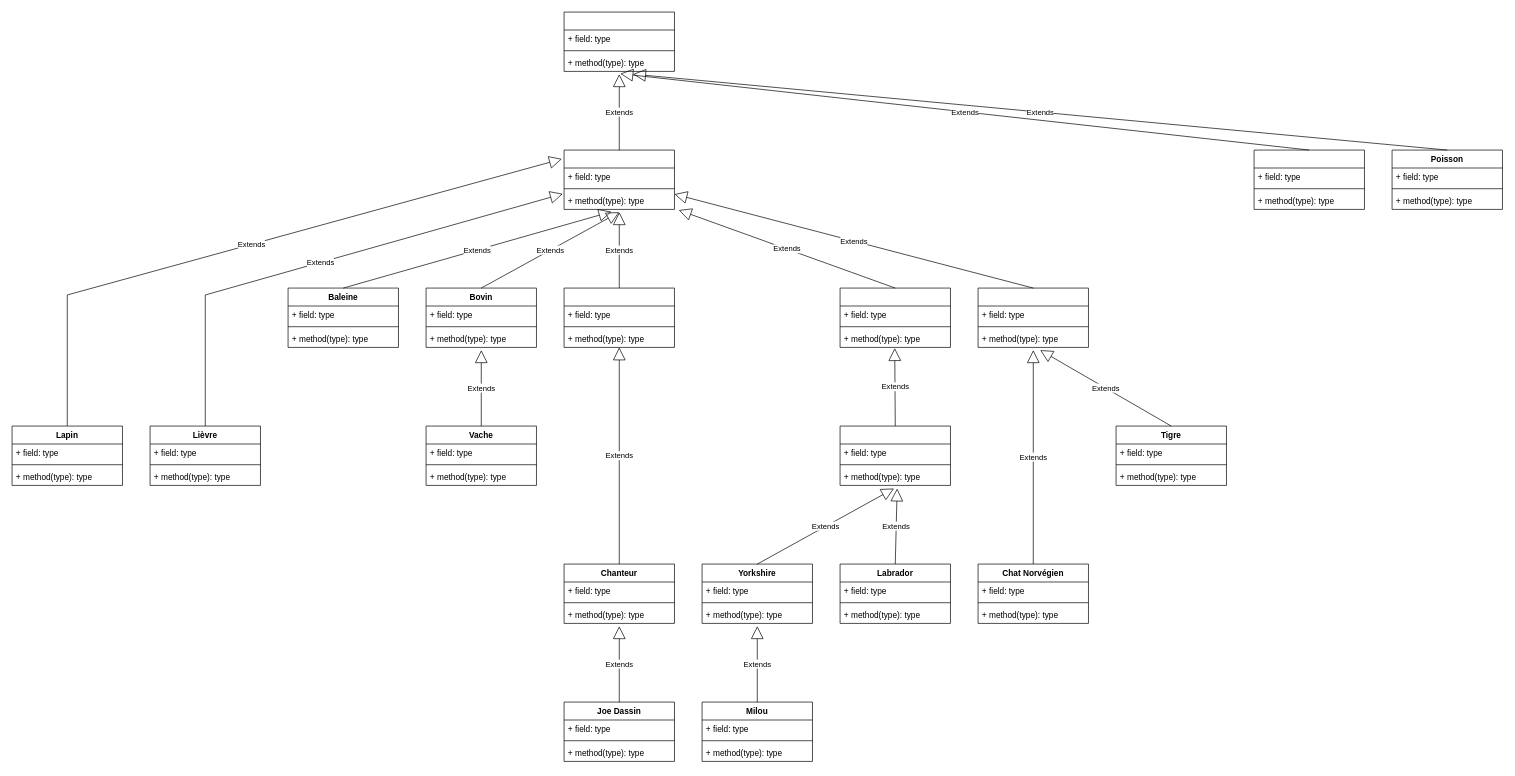
Some shapes in this 1515 by 776 pixel diagram are drawn without their labels. Here are the shapes that lost their labels. From the top down, the box of each, then its label:
(563, 11, 674, 71): Animal
(563, 149, 674, 209): Mammifère
(1253, 149, 1364, 209): Oiseau
(563, 287, 674, 347): Humain
(839, 287, 950, 347): Canin
(977, 287, 1088, 347): Félin
(839, 425, 950, 485): Chien
